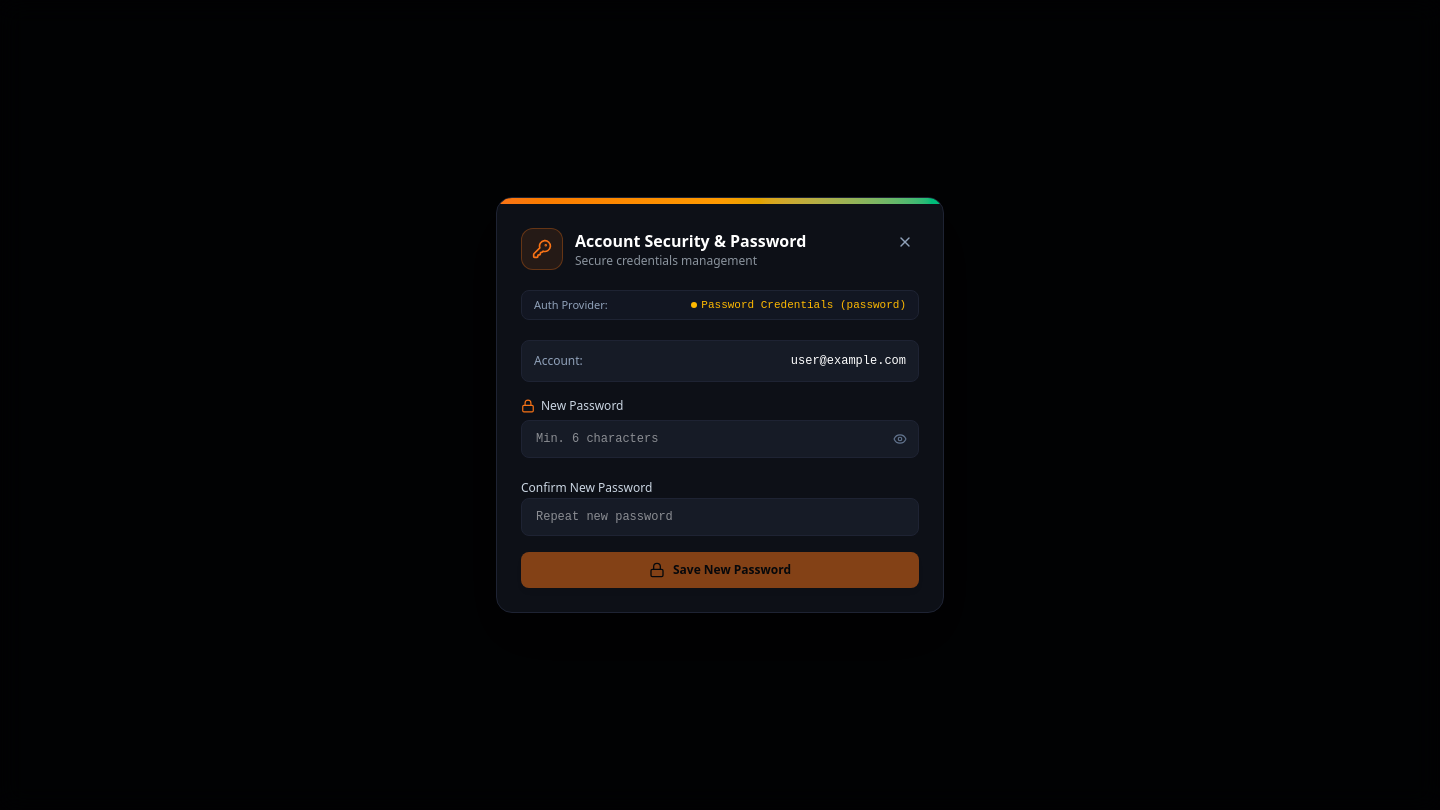
AuthActionModal Component Tests › Password Reset Flow (mode=resetPassword) › should handle auth/too-many-requests error when rate limit is exceeded
Type "NewSecret123!" into the password field with placeholder "Min. 6 characters" at (720, 439), box 521,420 -> 919,458
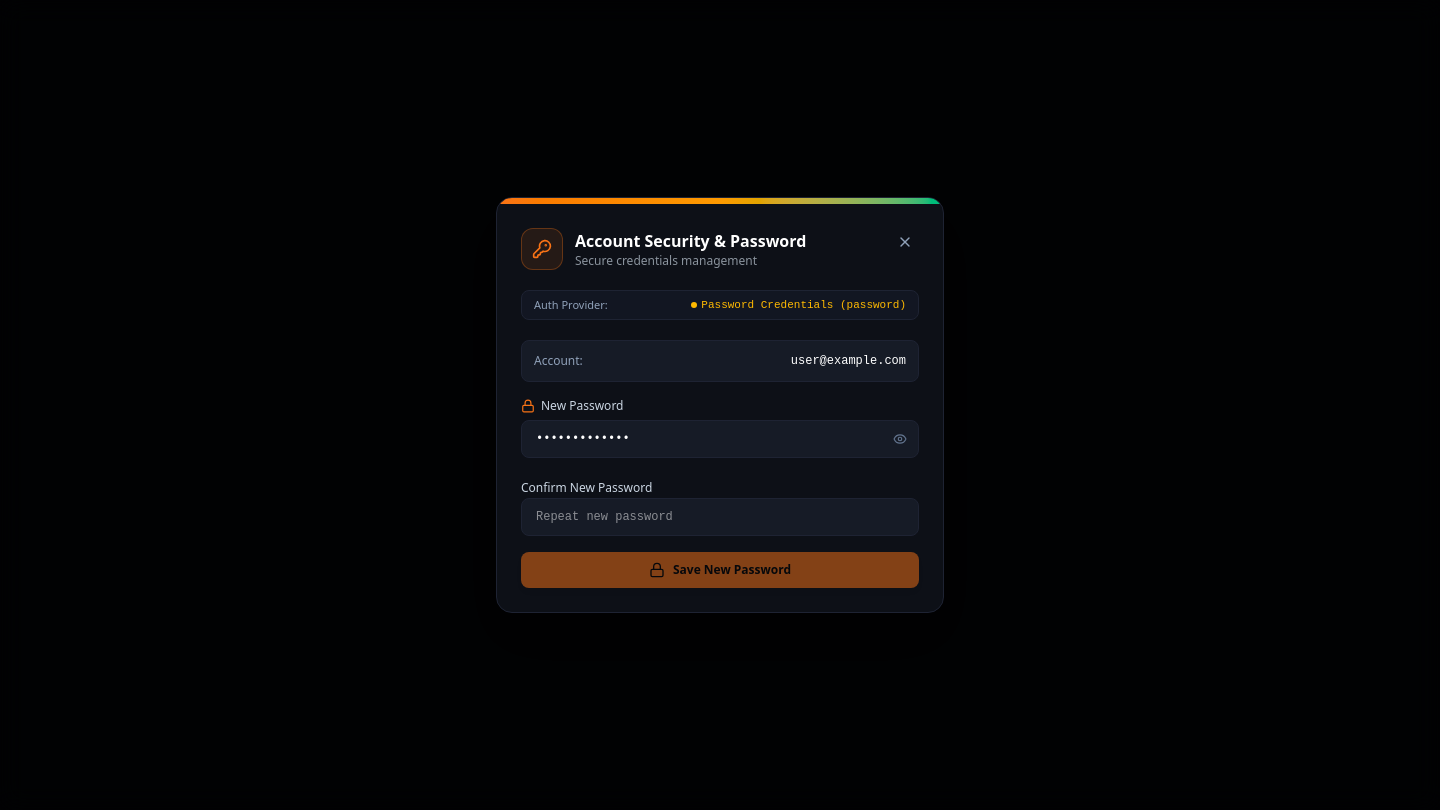
Type "NewSecret123!" into the password field with placeholder "Repeat new password" at (720, 517), box 521,498 -> 919,536
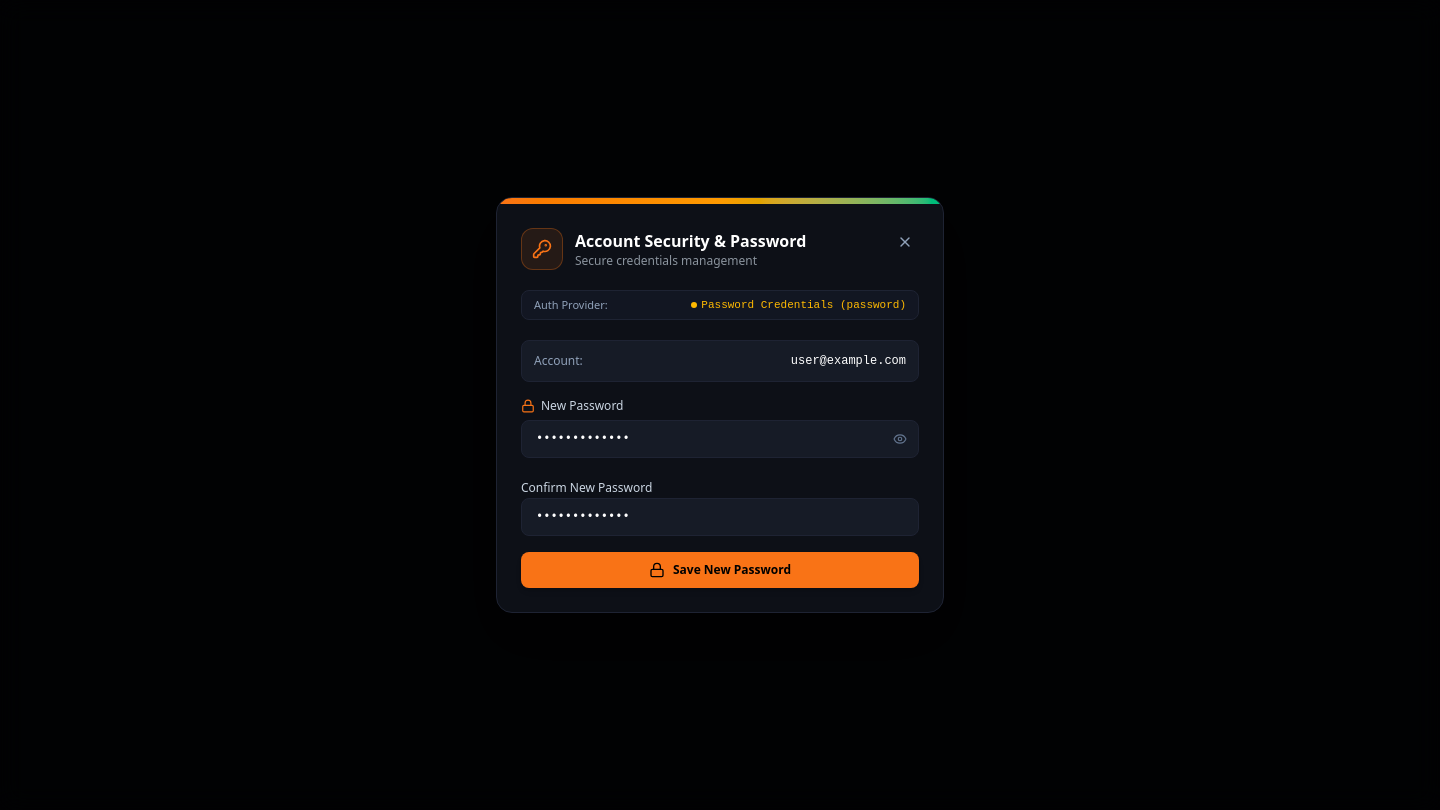
Click the button "Save New Password" at (720, 570), box 521,552 -> 919,588
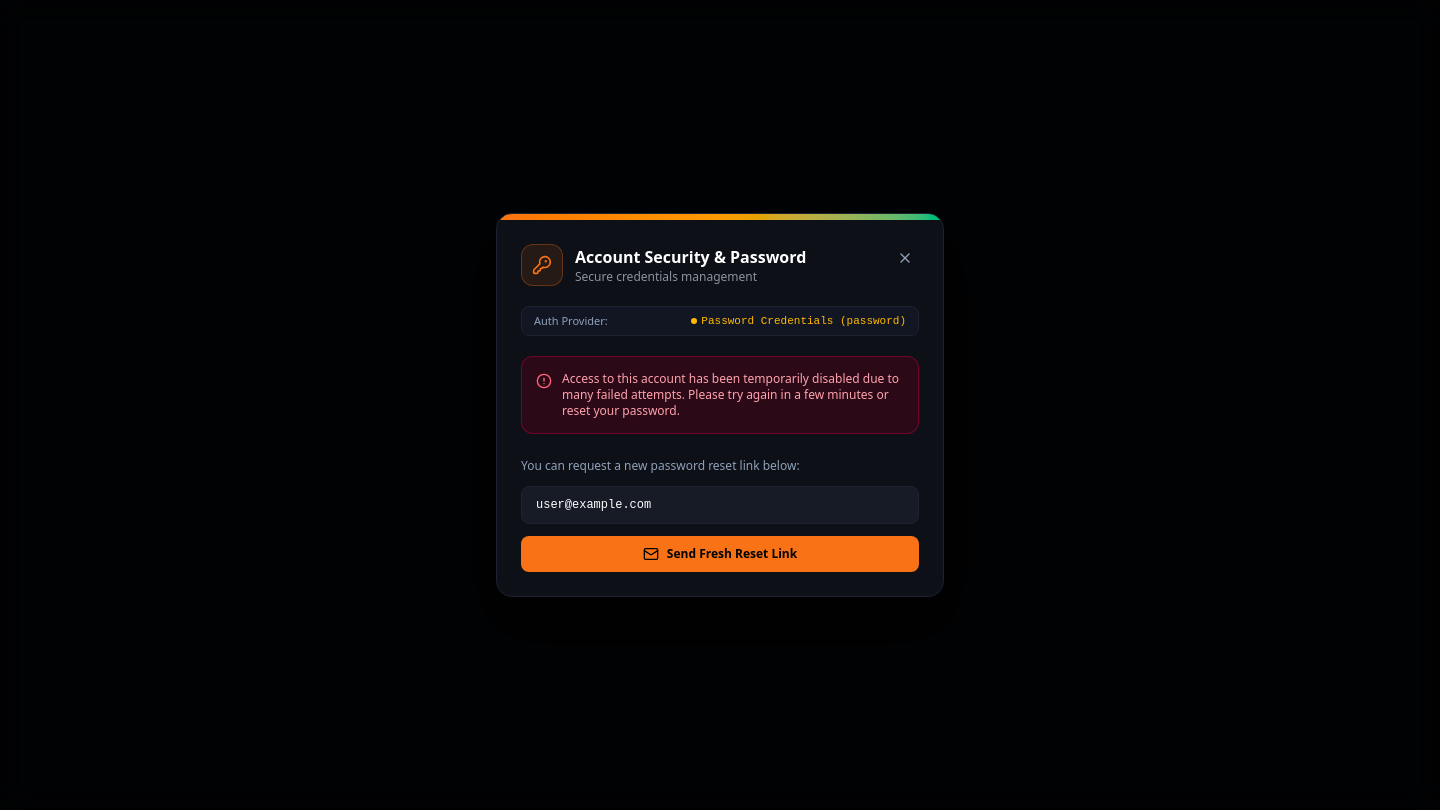
Expected: the text "Access to this account has been temporarily disabled due to many failed attempts" is shown, 562,370 -> 899,419
